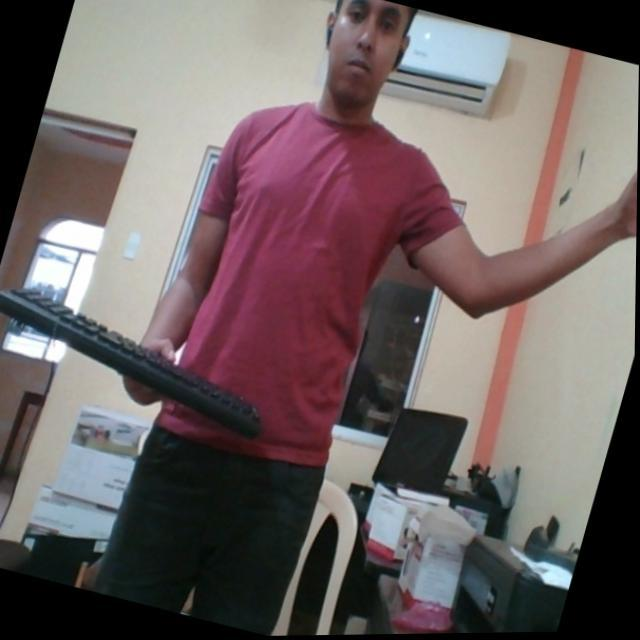weapon: (616, 72, 639, 228)
